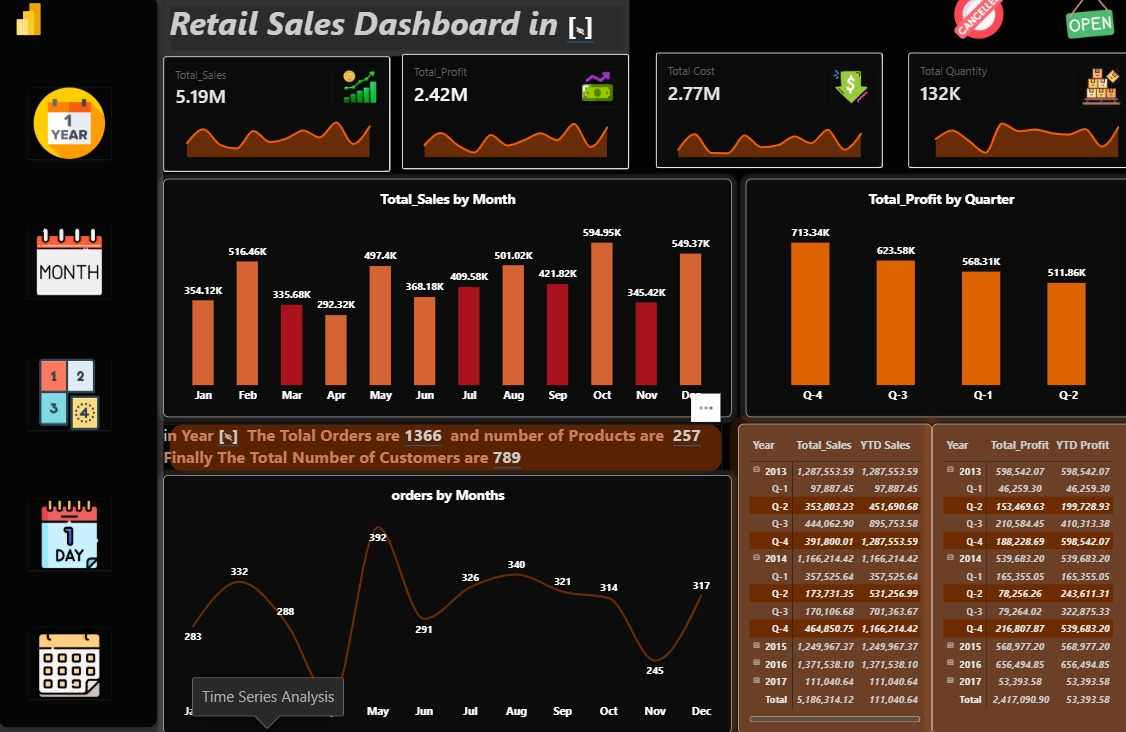

What the dashboard file says about the page in this screenshot:
{"tool":"powerbi","page":{"name":"Time Series Analysis","canvas":[1700,1100],"ordinal":1},"visuals":[{"type":"shape","box":[0,0,254,1100],"z":0},{"type":"shape","box":[253.4,14.8,689.8,83.2],"z":1000},{"type":"textbox","box":[262.6,14.8,706.5,72.1],"z":2000},{"type":"image","box":[12.2,14.9,82.8,57],"z":8000},{"type":"cardVisual","fields":{"Data":["Calculation.Total_Sales"]},"box":[254,97.8,336.8,171.1],"z":9000},{"type":"image","box":[505.2,115.4,78.8,57],"z":10000},{"type":"cardVisual","fields":{"Data":["Calculation.Total_Profit"]},"box":[607,95.1,336.8,171.1],"z":11000},{"type":"areaChart","fields":{"Category":["CalenderDate.Month_name"],"Y":["Calculation.Total_Sales"]},"box":[262.1,172.5,321.9,91],"z":12000},{"type":"areaChart","fields":{"Category":["CalenderDate.Month_name"],"Y":["Calculation.Total_Profit"]},"box":[613.8,172.5,321.9,91],"z":13000},{"type":"cardVisual","fields":{"Data":["Calculation.Total Cost"]},"box":[981.9,92.3,336.8,171.1],"z":14000},{"type":"areaChart","fields":{"Category":["CalenderDate.Month_name"],"Y":["Calculation.Total Cost"]},"box":[988.6,172.5,321.9,91],"z":15000},{"type":"cardVisual","fields":{"Data":["Calculation.Total Quantity"]},"box":[1355.3,92.3,336.8,171.1],"z":16000},{"type":"areaChart","fields":{"Category":["CalenderDate.Month_name"],"Y":["Calculation.Total Quantity"]},"box":[1370.2,172.5,321.9,91],"z":17000},{"type":"clusteredColumnChart","title":"Total_Sales  by Month","fields":{"Category":["CalenderDate.Month_name"],"Y":["Calculation.Total_Sales"]},"box":[254,278.4,840.6,353.1],"z":18000},{"type":"clusteredColumnChart","title":"Total_Profit by Quarter","fields":{"Category":["CalenderDate.Quarter_name"],"Y":["Calculation.Total_Profit"]},"box":[1114.9,278.4,577.2,353.1],"z":19000},{"type":"lineChart","title":"orders by Months","fields":{"Category":["CalenderDate.Month_name"],"Y":["Calculation.#Orders"]},"box":[254,717,840.6,383],"z":20000},{"type":"pivotTable","fields":{"Rows":["CalenderDate.Year","CalenderDate.Quarter_name"],"Values":["Calculation.Total_Sales","Calculation.YTD Sales"]},"box":[1104.1,641,286.5,459],"z":21000},{"type":"pivotTable","fields":{"Rows":["CalenderDate.Year","CalenderDate.Quarter_name"],"Values":["Calculation.Total_Profit","Calculation.YTD Profit"]},"box":[1390.6,641,301.5,459],"z":22000},{"type":"image","box":[856.9,115.4,78.8,57],"z":23000},{"type":"image","box":[1231.7,115.4,78.8,57],"z":24000},{"type":"image","box":[1601.1,115.4,78.8,57],"z":25000},{"type":"shape","box":[262.1,641,817.5,72],"z":26000},{"type":"textbox","box":[253.4,641.7,826.7,72.1],"z":27000},{"type":"image","title":"YearImage","box":[53.6,144.3,122.1,105.4],"z":28000},{"type":"image","title":"Monthimage","box":[53.6,349.5,122.1,105.4],"z":29000},{"type":"image","title":"quarterimage","box":[53.6,545.6,122.1,105.4],"z":30000},{"type":"image","title":"Dayimage","box":[53.6,752.7,122.1,105.4],"z":31000},{"type":"image","title":"yearMon","box":[53.6,943.2,122.1,105.4],"z":32000},{"type":"image","box":[1568.3,0,112.8,72.1],"z":33000},{"type":"image","box":[1403.7,0,112.8,72.1],"z":34000}]}

Visuals, with their boxes on the page's 1700x1100 design canvas (x1, y1, x2, y2). These are canvas units, not pixel positions in the 1126x732 screenshot, which may show the page scaled, cropped or inside an application window:
shape: x1=0 y1=0 x2=254 y2=1100
shape: x1=253 y1=15 x2=943 y2=98
textbox: x1=263 y1=15 x2=969 y2=87
image: x1=12 y1=15 x2=95 y2=72
cardVisual - Calculation.Total_Sales: x1=254 y1=98 x2=591 y2=269
image: x1=505 y1=115 x2=584 y2=172
cardVisual - Calculation.Total_Profit: x1=607 y1=95 x2=944 y2=266
areaChart - CalenderDate.Month_name x Calculation.Total_Sales: x1=262 y1=172 x2=584 y2=264
areaChart - CalenderDate.Month_name x Calculation.Total_Profit: x1=614 y1=172 x2=936 y2=264
cardVisual - Calculation.Total Cost: x1=982 y1=92 x2=1319 y2=263
areaChart - CalenderDate.Month_name x Calculation.Total Cost: x1=989 y1=172 x2=1310 y2=264
cardVisual - Calculation.Total Quantity: x1=1355 y1=92 x2=1692 y2=263
areaChart - CalenderDate.Month_name x Calculation.Total Quantity: x1=1370 y1=172 x2=1692 y2=264
"Total_Sales  by Month" clusteredColumnChart: x1=254 y1=278 x2=1095 y2=632
"Total_Profit by Quarter" clusteredColumnChart: x1=1115 y1=278 x2=1692 y2=632
"orders by Months" lineChart: x1=254 y1=717 x2=1095 y2=1100
pivotTable - CalenderDate.Year x CalenderDate.Quarter_name: x1=1104 y1=641 x2=1391 y2=1100
pivotTable - CalenderDate.Year x CalenderDate.Quarter_name: x1=1391 y1=641 x2=1692 y2=1100
image: x1=857 y1=115 x2=936 y2=172
image: x1=1232 y1=115 x2=1310 y2=172
image: x1=1601 y1=115 x2=1680 y2=172
shape: x1=262 y1=641 x2=1080 y2=713
textbox: x1=253 y1=642 x2=1080 y2=714
"YearImage" image: x1=54 y1=144 x2=176 y2=250
"Monthimage" image: x1=54 y1=350 x2=176 y2=455
"quarterimage" image: x1=54 y1=546 x2=176 y2=651
"Dayimage" image: x1=54 y1=753 x2=176 y2=858
"yearMon" image: x1=54 y1=943 x2=176 y2=1049
image: x1=1568 y1=0 x2=1681 y2=72
image: x1=1404 y1=0 x2=1516 y2=72
